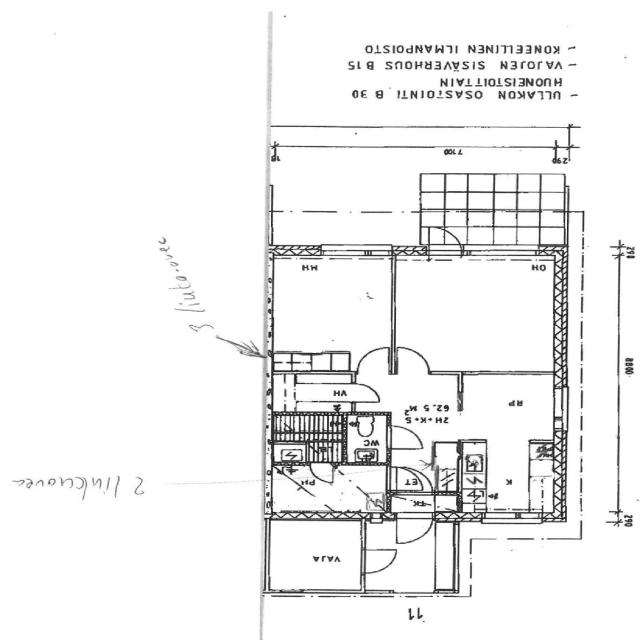door: (392, 512, 434, 546), (358, 546, 401, 577), (425, 227, 465, 259), (388, 464, 430, 494), (393, 343, 432, 375), (385, 423, 424, 452), (354, 345, 391, 375), (347, 380, 383, 406), (307, 461, 336, 486)
window: (460, 243, 545, 266), (318, 243, 392, 262), (480, 510, 542, 524), (550, 385, 569, 428), (295, 587, 357, 599)
zone: (390, 257, 562, 375), (267, 256, 394, 370), (455, 372, 565, 448), (459, 438, 562, 516), (266, 518, 366, 593), (270, 413, 349, 459), (269, 374, 359, 414), (266, 466, 324, 514), (333, 463, 387, 513), (344, 413, 390, 463), (389, 465, 430, 494)
